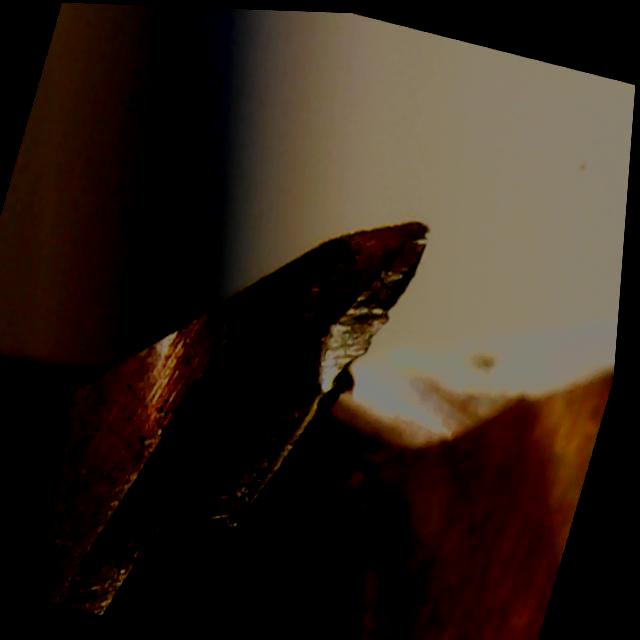Tool-wear-class-3: (173, 159, 476, 541)
